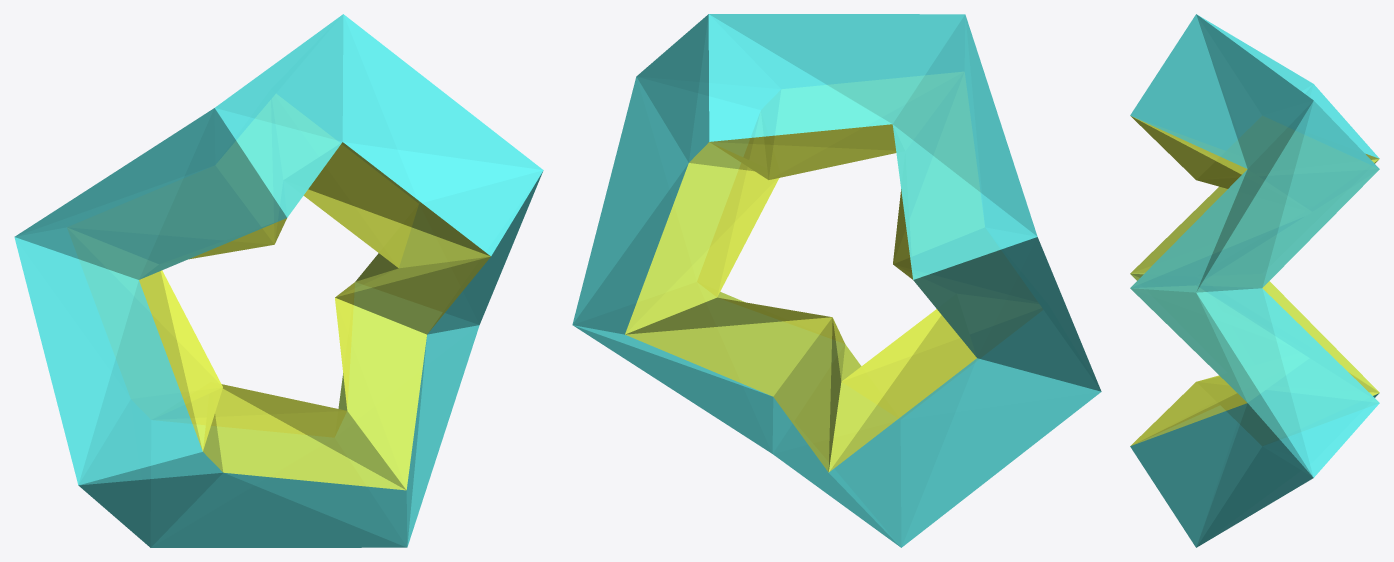
Rendered from Regular8TetragonalToroidSin.obj.
The picture shows the model from 3 angles, left to right: view 1: azimuth 30°, elevation 25°; view 2: azimuth 150°, elevation 25°; view 3: azimuth 270°, elevation 25°; orthographic projection. The views are drawn at different scales.
Bounding box in the file's own units: 2.61 × 2.61 × 1.32.
